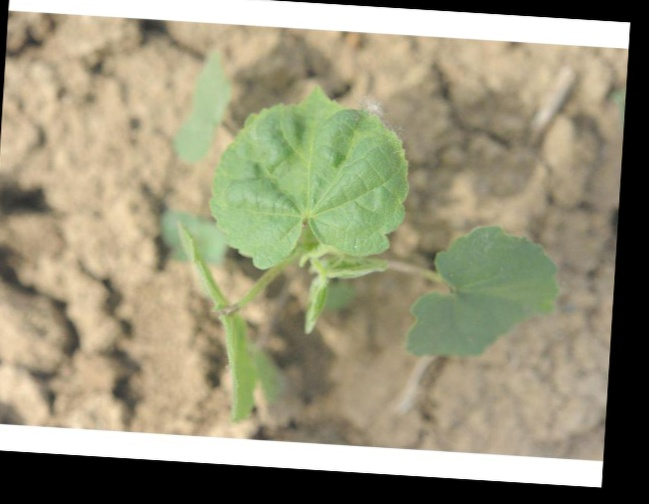velvet: (159, 60, 561, 429)
